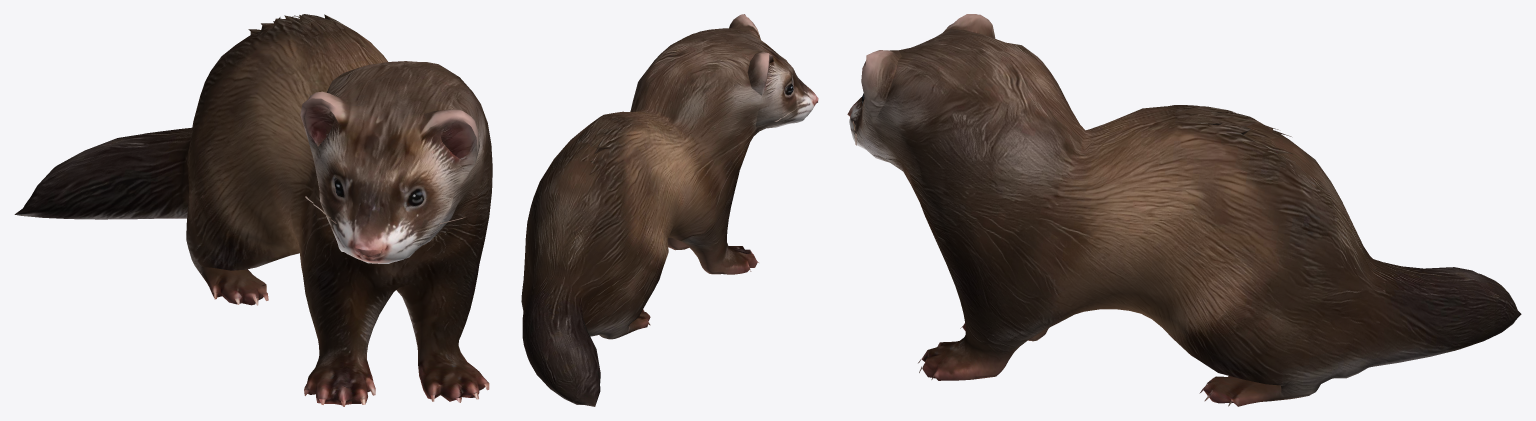
File: bamba.glb
3 views of the same model, side by side, from view 1: azimuth 30°, elevation 25°; view 2: azimuth 150°, elevation 25°; view 3: azimuth 270°, elevation 25° (orthographic). The views are drawn at different scales.
Parts seen in each view (by area): view 1: model; view 2: model; view 3: model.
Part boxes in pixels (x1,y1,x2,y2): model: [14, 14, 492, 406]; model: [521, 14, 818, 406]; model: [847, 14, 1521, 406].
Bounding box in the file's own units: 0.7565 × 1 × 1.98.
Materials: 1 (1 with a texture image).
